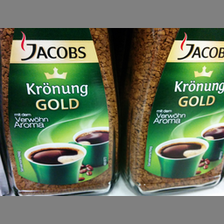coffee: (1, 28, 117, 193), (124, 28, 223, 193)
